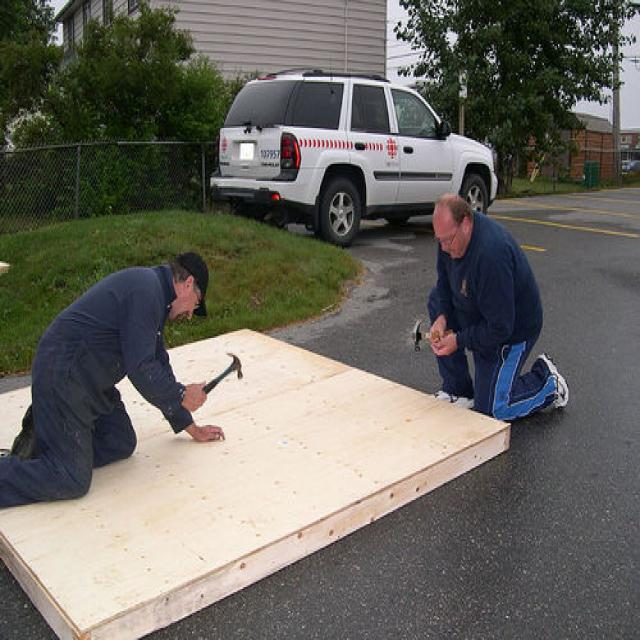hammer: (189, 344, 255, 405), (400, 296, 442, 364)
